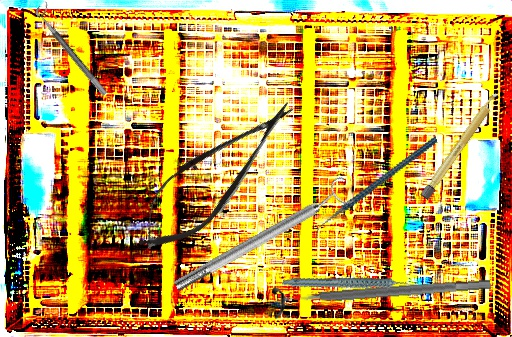Chopper: (296, 136, 456, 242)
Fixation Ring: (167, 174, 358, 300), (271, 267, 493, 321), (33, 1, 115, 97)
Handpiece: (281, 253, 415, 317)
Micro Scissor: (119, 82, 312, 268)
Scalpel Handle: (420, 89, 502, 201)
